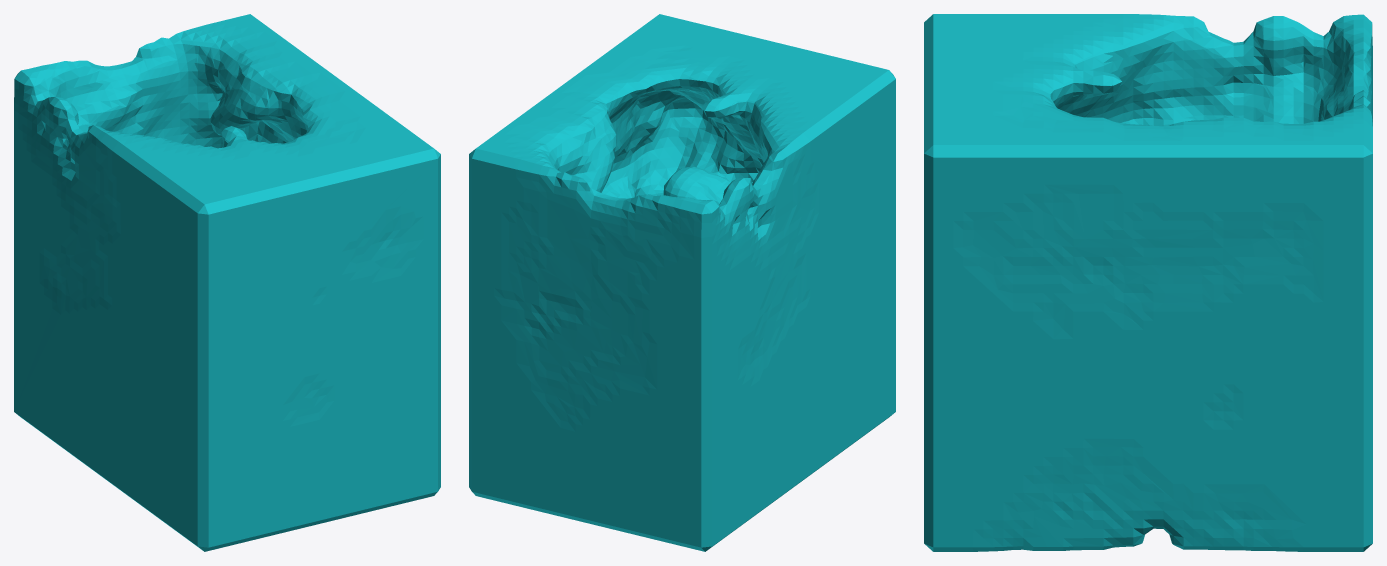
3 views of the same model, side by side, from view 1: azimuth 30°, elevation 25°; view 2: azimuth 150°, elevation 25°; view 3: azimuth 270°, elevation 25° (orthographic). The views are drawn at different scales.
Parts seen in each view (by area): view 1: Liquid_Domain; view 2: Liquid_Domain; view 3: Liquid_Domain.
Boxes of the visible parts, bbox=[...] form: Liquid_Domain: bbox=[14, 14, 440, 551]; Liquid_Domain: bbox=[469, 14, 895, 551]; Liquid_Domain: bbox=[924, 14, 1372, 551].
Size of the model in its own units: 79.09 by 108 by 108.
